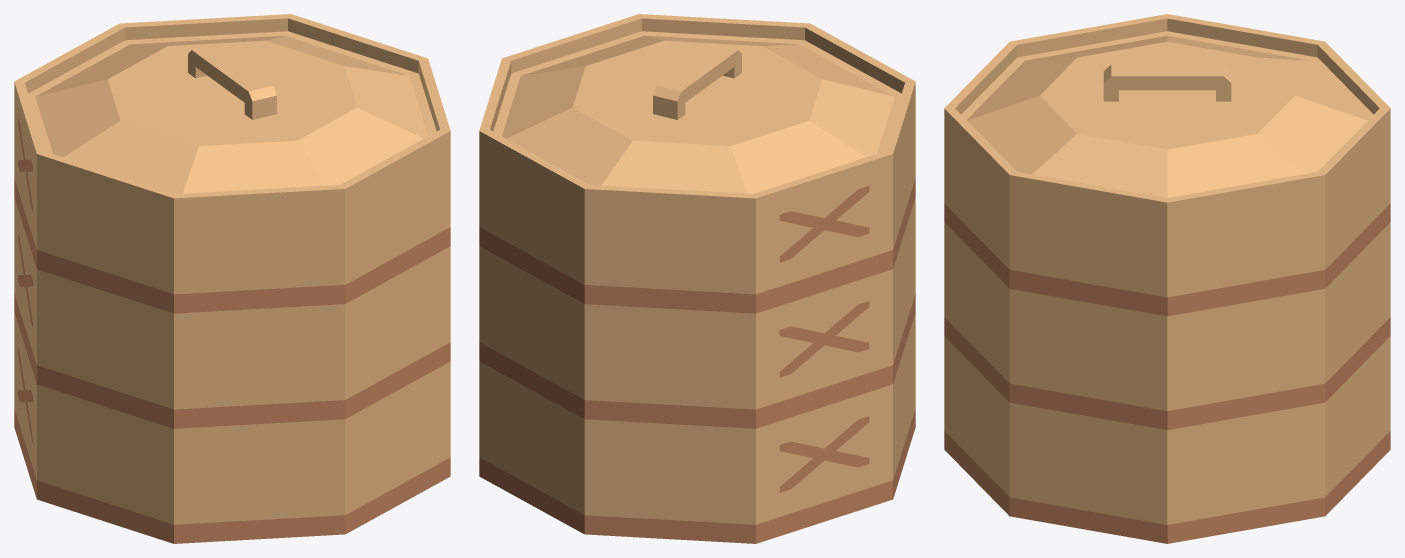
The model's file is steamer.obj.
3 views of the same model, side by side, from view 1: azimuth 30°, elevation 25°; view 2: azimuth 150°, elevation 25°; view 3: azimuth 270°, elevation 25° (orthographic).
Parts seen in each view (by area): view 1: layer, lid; view 2: layer, lid; view 3: layer, lid.
Boxes of the visible parts, x1,y1,x2,y2 form: layer: (14,14,450,543); lid: (35,35,427,193); layer: (479,14,915,543); lid: (502,35,894,193); layer: (944,14,1390,543); lid: (967,35,1367,197).
Bounding box in the file's own units: 0.64 × 0.6 × 0.64.
